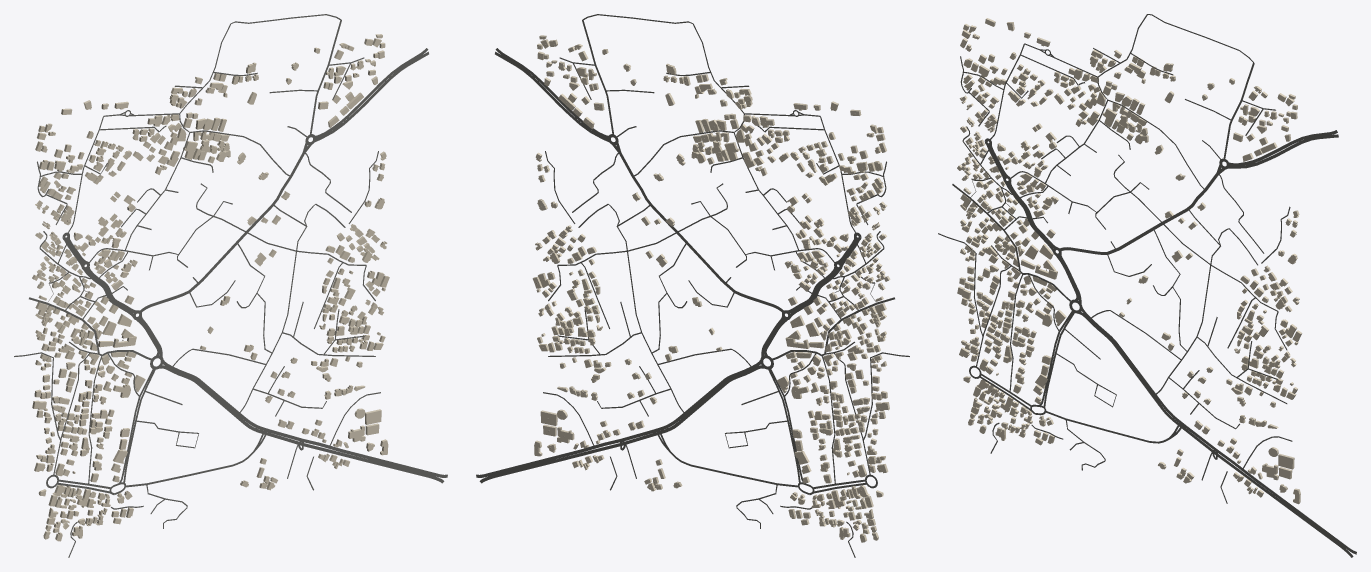
The model's file is historic-palestine-10_34_3517_3280.glb.
The picture shows the model from 3 angles, left to right: view 1: azimuth 30°, elevation 25°; view 2: azimuth 150°, elevation 25°; view 3: azimuth 330°, elevation 25°; orthographic projection. The views are drawn at different scales.
Visible parts, largest first — view 1: Road توفيق زياد, Road توفيق زياد.001, Road .005; view 2: Road توفيق زياد, Road توفيق زياد.001, Road .005; view 3: Road توفيق زياد, Road توفيق زياد.001, Road .005.
Part boxes in pixels (x1,y1,x2,y2): Road توفيق زياد: (266, 428, 447, 477); Road توفيق زياد.001: (266, 432, 444, 483); Road .005: (124, 14, 341, 250); Road توفيق زياد: (476, 428, 657, 477); Road توفيق زياد.001: (479, 432, 657, 483); Road .005: (582, 14, 799, 250); Road توفيق زياد: (1182, 422, 1356, 554); Road توفيق زياد.001: (1181, 426, 1353, 557); Road .005: (1045, 14, 1253, 183).
Bounding box in the file's own units: 1187 × 1341 × 8.7.
